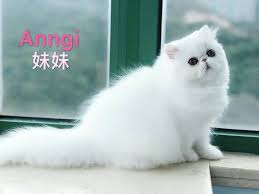cat: (161, 25, 235, 88)
